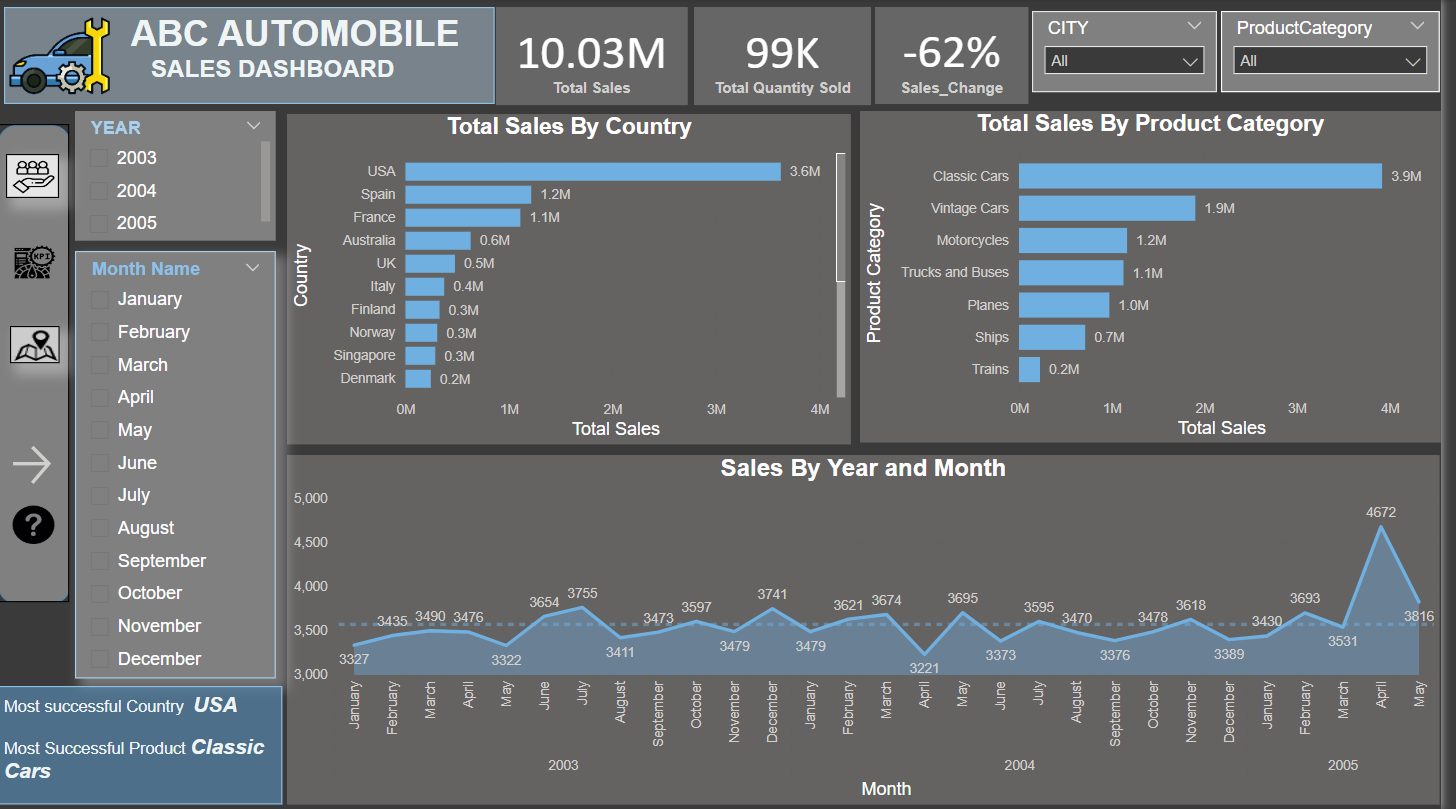

The dashboard page shown, as its layout file describes it:
{"tool":"powerbi","page":{"name":"Sales","canvas":[1280,720],"ordinal":0},"visuals":[{"type":"shape","box":[0,110.5,64,424.4],"z":0},{"type":"areaChart","title":"Sales By Year and Month","fields":{"Category":["DAX DateTable.Year","DAX DateTable.Month Name"],"Y":["Avg(Sales_Fact_table.SALES)"]},"box":[257.4,404.6,1022.2,310],"z":1000},{"type":"clusteredBarChart","title":"Total Sales By Country","fields":{"Category":["DimCountry.COUNTRY"],"Y":["Sum(Sales_Fact_table.SALES)"]},"box":[257.3,101.9,500.5,293.3],"z":2000},{"type":"clusteredBarChart","title":"Total Sales By Product Category","fields":{"Category":["DimProductCategory.productCategory"],"Y":["Sum(Sales_Fact_table.SALES)"]},"box":[764.9,99.4,514.7,294.5],"z":3000},{"type":"slicer","fields":{"Values":["DimCustomer.CITY"]},"box":[918.1,10.8,164,71.8],"z":4000},{"type":"slicer","fields":{"Values":["DimProductCategory.productCategory"]},"box":[1085.3,10.5,194,72],"z":5000},{"type":"slicer","title":"YEAR","fields":{"Values":["Sales_Fact_table.YEAR_ID"]},"box":[69.4,99.4,178.4,114.9],"z":6000},{"type":"card","fields":{"Values":["Sum(Sales_Fact_table.QUANTITYORDERED)"]},"box":[618.2,7.4,156.9,87.4],"z":7000},{"type":"image","box":[8.8,444.5,46.7,43.8],"z":8000},{"type":"image","box":[11.6,289.7,43.6,32.9],"z":9000},{"type":"image","box":[7.8,137.6,47.5,38.8],"z":10000},{"type":"textbox","box":[6,7.2,434.5,86.2],"z":11000},{"type":"card","fields":{"Values":["Sum(Sales_Fact_table.SALES)"]},"box":[442.3,7.4,169.6,87.4],"z":12000},{"type":"slicer","title":"YEAR","fields":{"Values":["DAX DateTable.Month Name"]},"box":[69.4,223.8,178.4,379.5],"z":13000},{"type":"image","box":[10.7,213.7,45.5,38.8],"z":14000},{"type":"textbox","box":[0,609.4,252.9,105.4],"z":15000},{"type":"image","box":[0,1.1,111.6,99],"z":16000},{"type":"actionButton","box":[8.4,391.4,47.9,44.3],"z":17000},{"type":"card","fields":{"Values":["DAX DateTable.Sales_Change"]},"box":[778.3,7.4,135.9,86.4],"z":18000}]}

Visuals, with their boxes in screenshot pixels (x1, y1, x2, y2), scaled from the page's 1280x720 canvas onto the 1456x809 screenshot:
shape: bbox=[0, 124, 73, 601]
"Sales By Year and Month" areaChart: bbox=[293, 455, 1455, 803]
"Total Sales By Country" clusteredBarChart: bbox=[293, 114, 862, 444]
"Total Sales By Product Category" clusteredBarChart: bbox=[870, 112, 1455, 443]
slicer - DimCustomer.CITY: bbox=[1044, 12, 1231, 93]
slicer - DimProductCategory.productCategory: bbox=[1235, 12, 1455, 93]
"YEAR" slicer: bbox=[79, 112, 282, 241]
card - Sum(Sales_Fact_table.QUANTITYORDERED): bbox=[703, 8, 882, 107]
image: bbox=[10, 499, 63, 549]
image: bbox=[13, 326, 63, 362]
image: bbox=[9, 155, 63, 198]
textbox: bbox=[7, 8, 501, 105]
card - Sum(Sales_Fact_table.SALES): bbox=[503, 8, 696, 107]
"YEAR" slicer: bbox=[79, 251, 282, 678]
image: bbox=[12, 240, 64, 284]
textbox: bbox=[0, 685, 288, 803]
image: bbox=[0, 1, 127, 112]
actionButton: bbox=[10, 440, 64, 490]
card - DAX DateTable.Sales_Change: bbox=[885, 8, 1040, 105]
